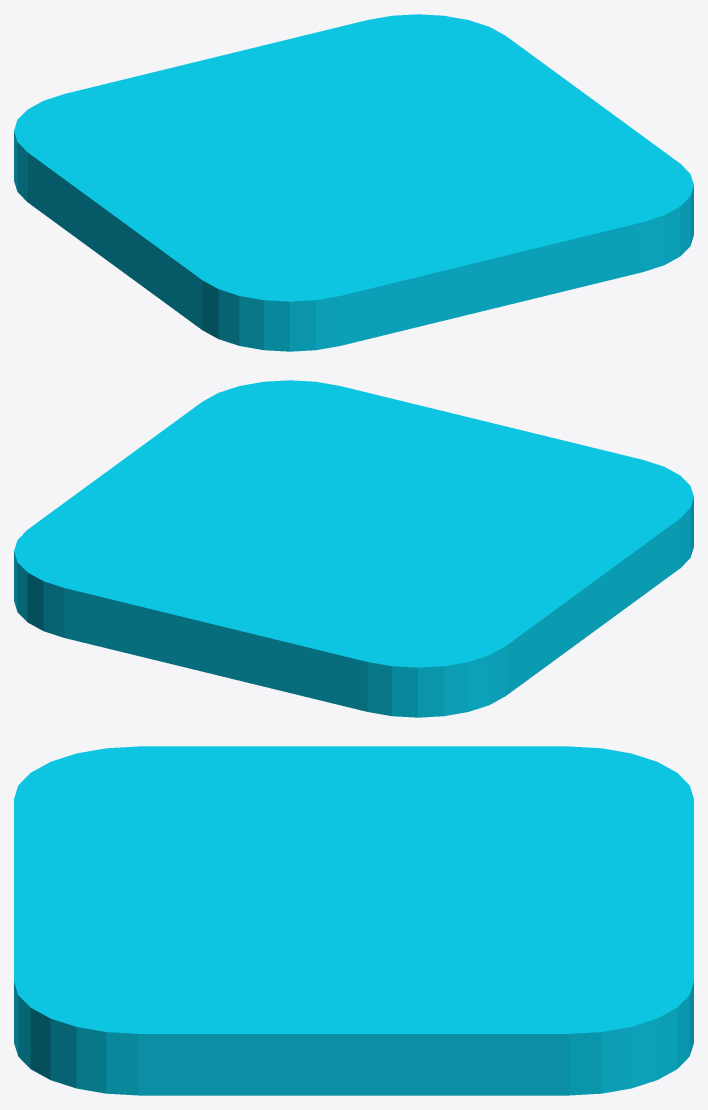
File: wrs_fcsc_app.dae
3 renders of one model, top to bottom at view 1: azimuth 30°, elevation 25°; view 2: azimuth 150°, elevation 25°; view 3: azimuth 270°, elevation 25°, orthographic. The views are drawn at different scales.
Parts seen in each view (by area): view 1: Cube; view 2: Cube; view 3: Cube.
Part boxes in pixels (x1,y1,x2,y2): Cube: [14, 14, 693, 351]; Cube: [14, 380, 693, 717]; Cube: [14, 746, 693, 1095].
Size of the model in its own units: 0.2 by 0.2 by 0.03.
